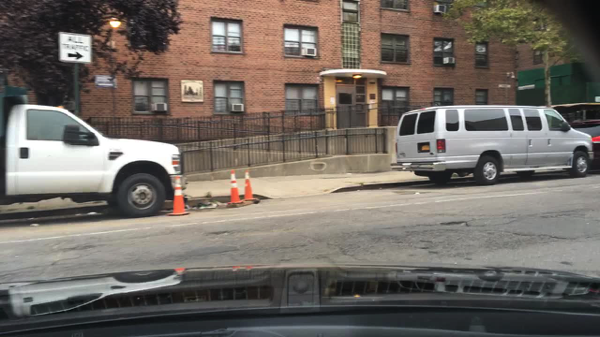car: (0, 86, 181, 215), (389, 104, 594, 184), (569, 120, 598, 170)
traffic sign: (57, 32, 94, 64)
